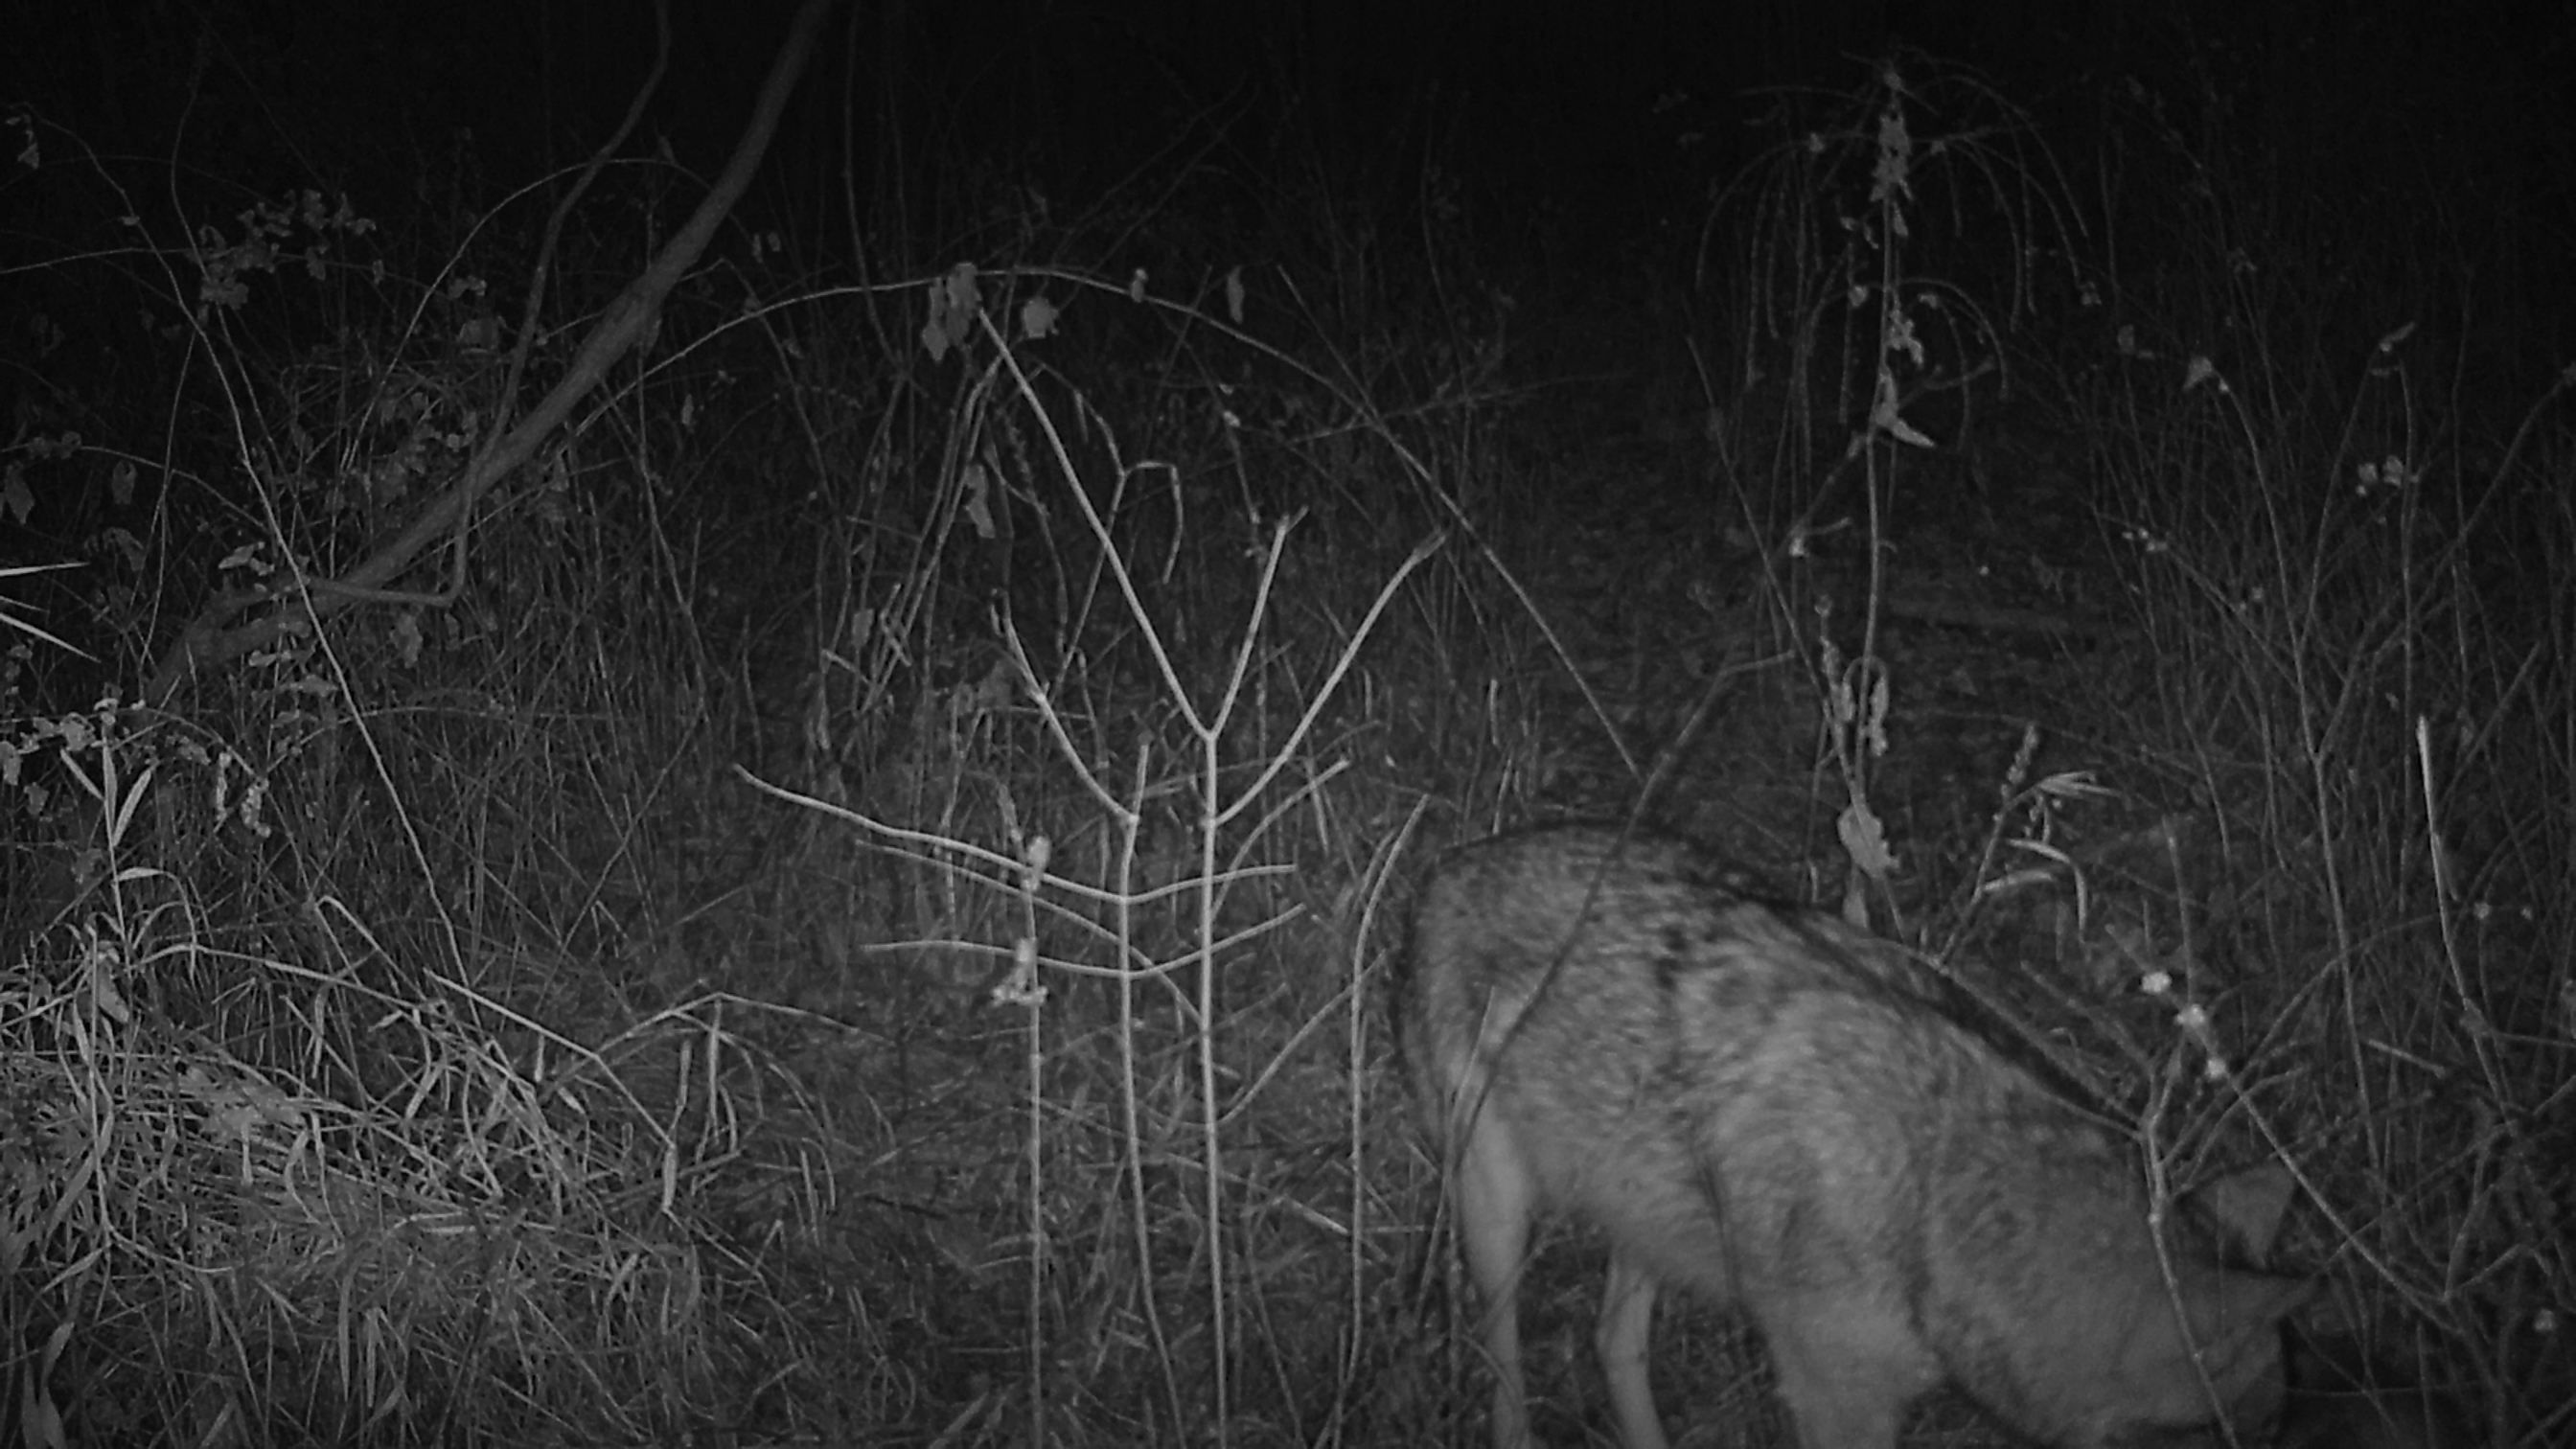Coyote: (1387, 809, 2344, 1447)
